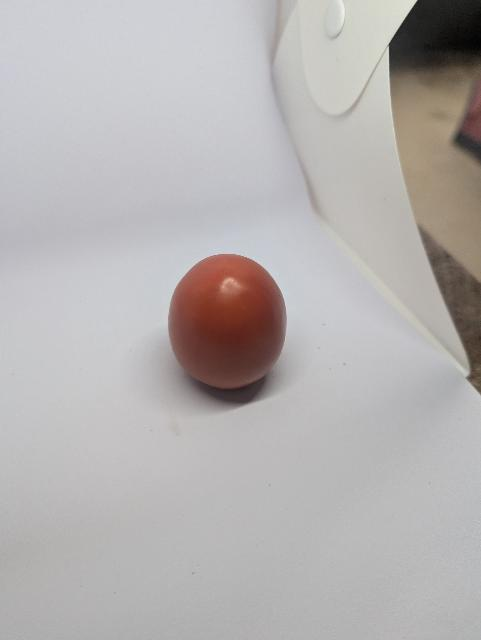red: (161, 251, 298, 404)
